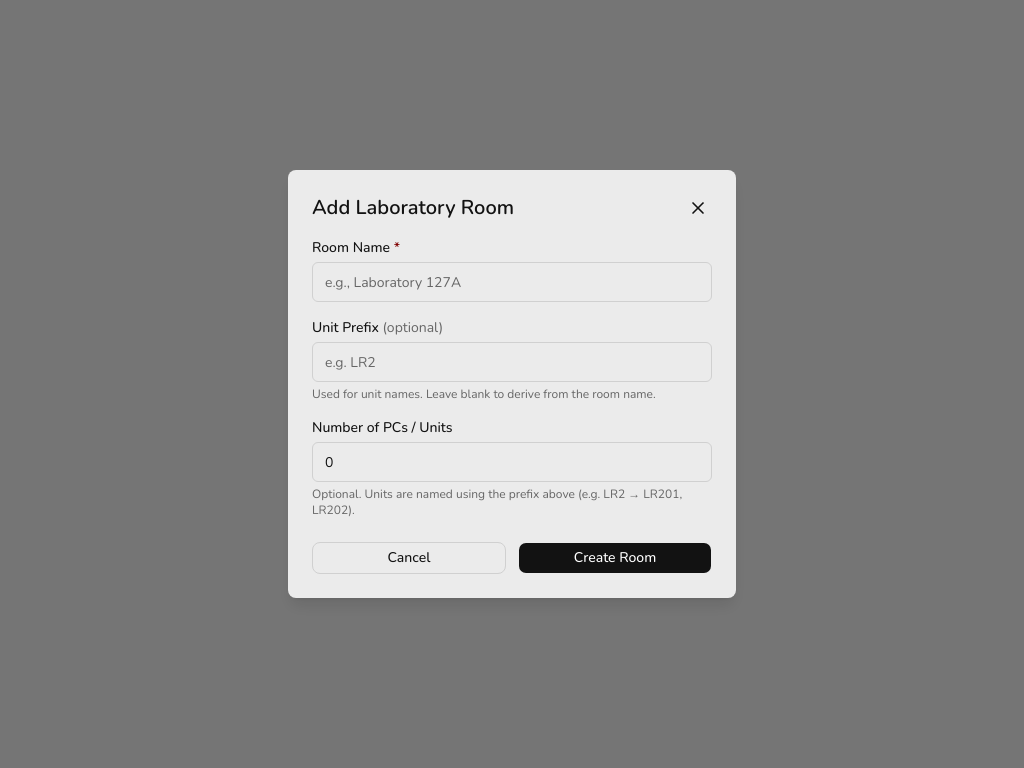
Scenario: AddRoomForm › disables inputs while submitting
This screenshot has width=1024, height=768.
In the field labelled "Room Name *": (512, 282) [312,262,712,302], type "Lab"
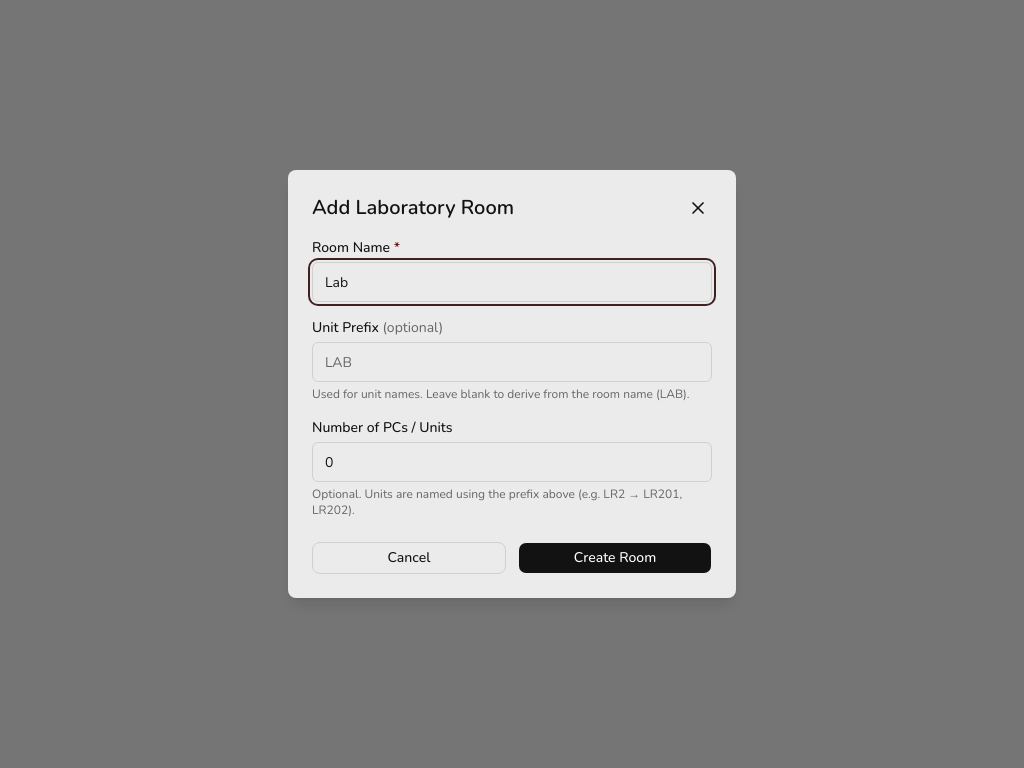
Click the button "Create Room": (615, 558) [518,542,712,574]
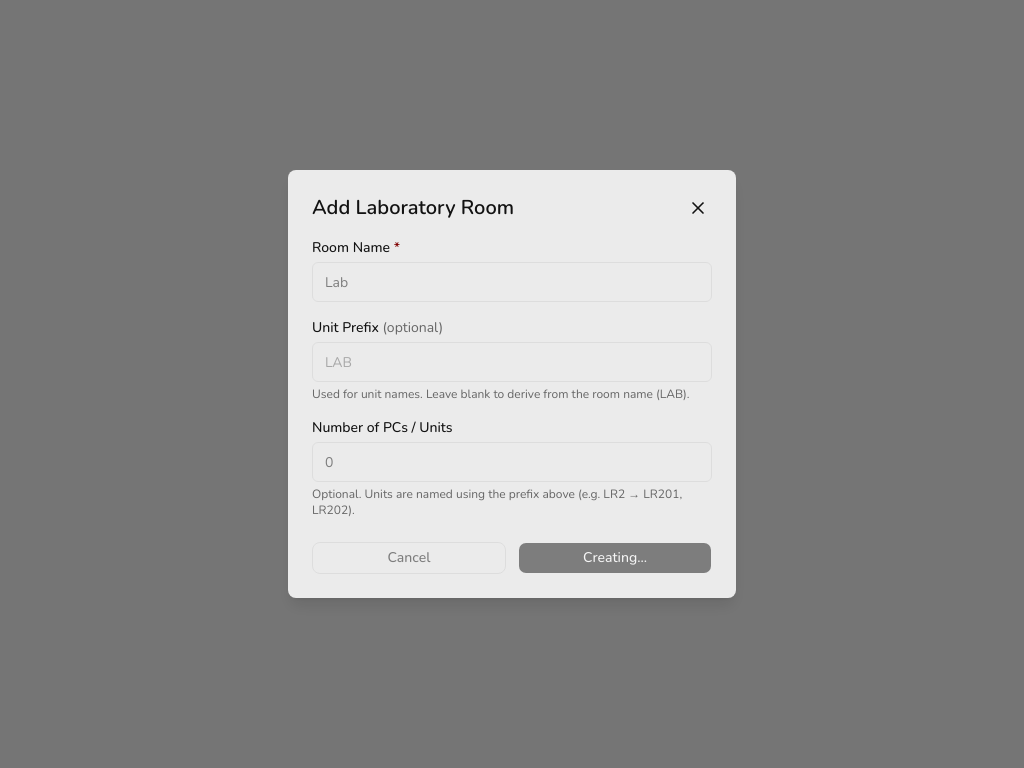
Now the button "Creating..." is disabled, box [518,542,712,574]
